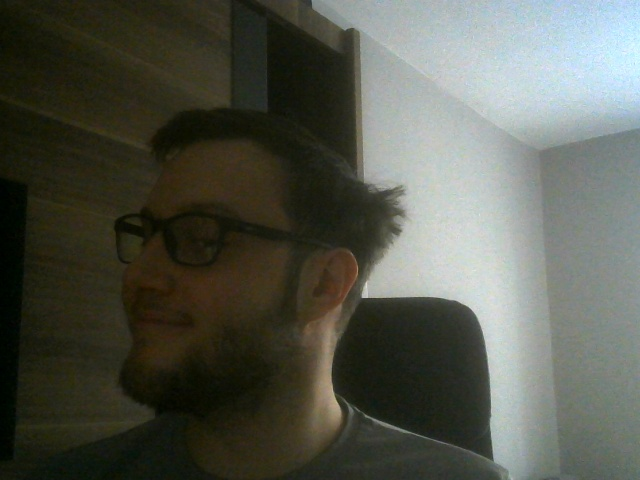happy: (117, 107, 369, 409)
